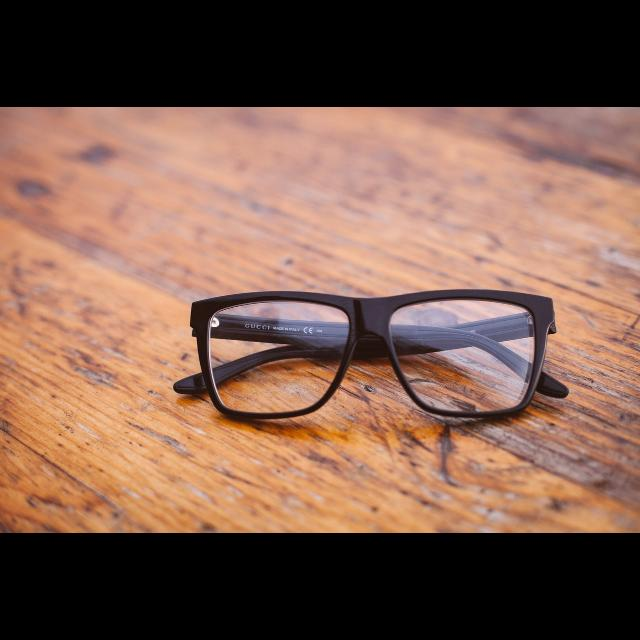glasses: (186, 289, 558, 421)
